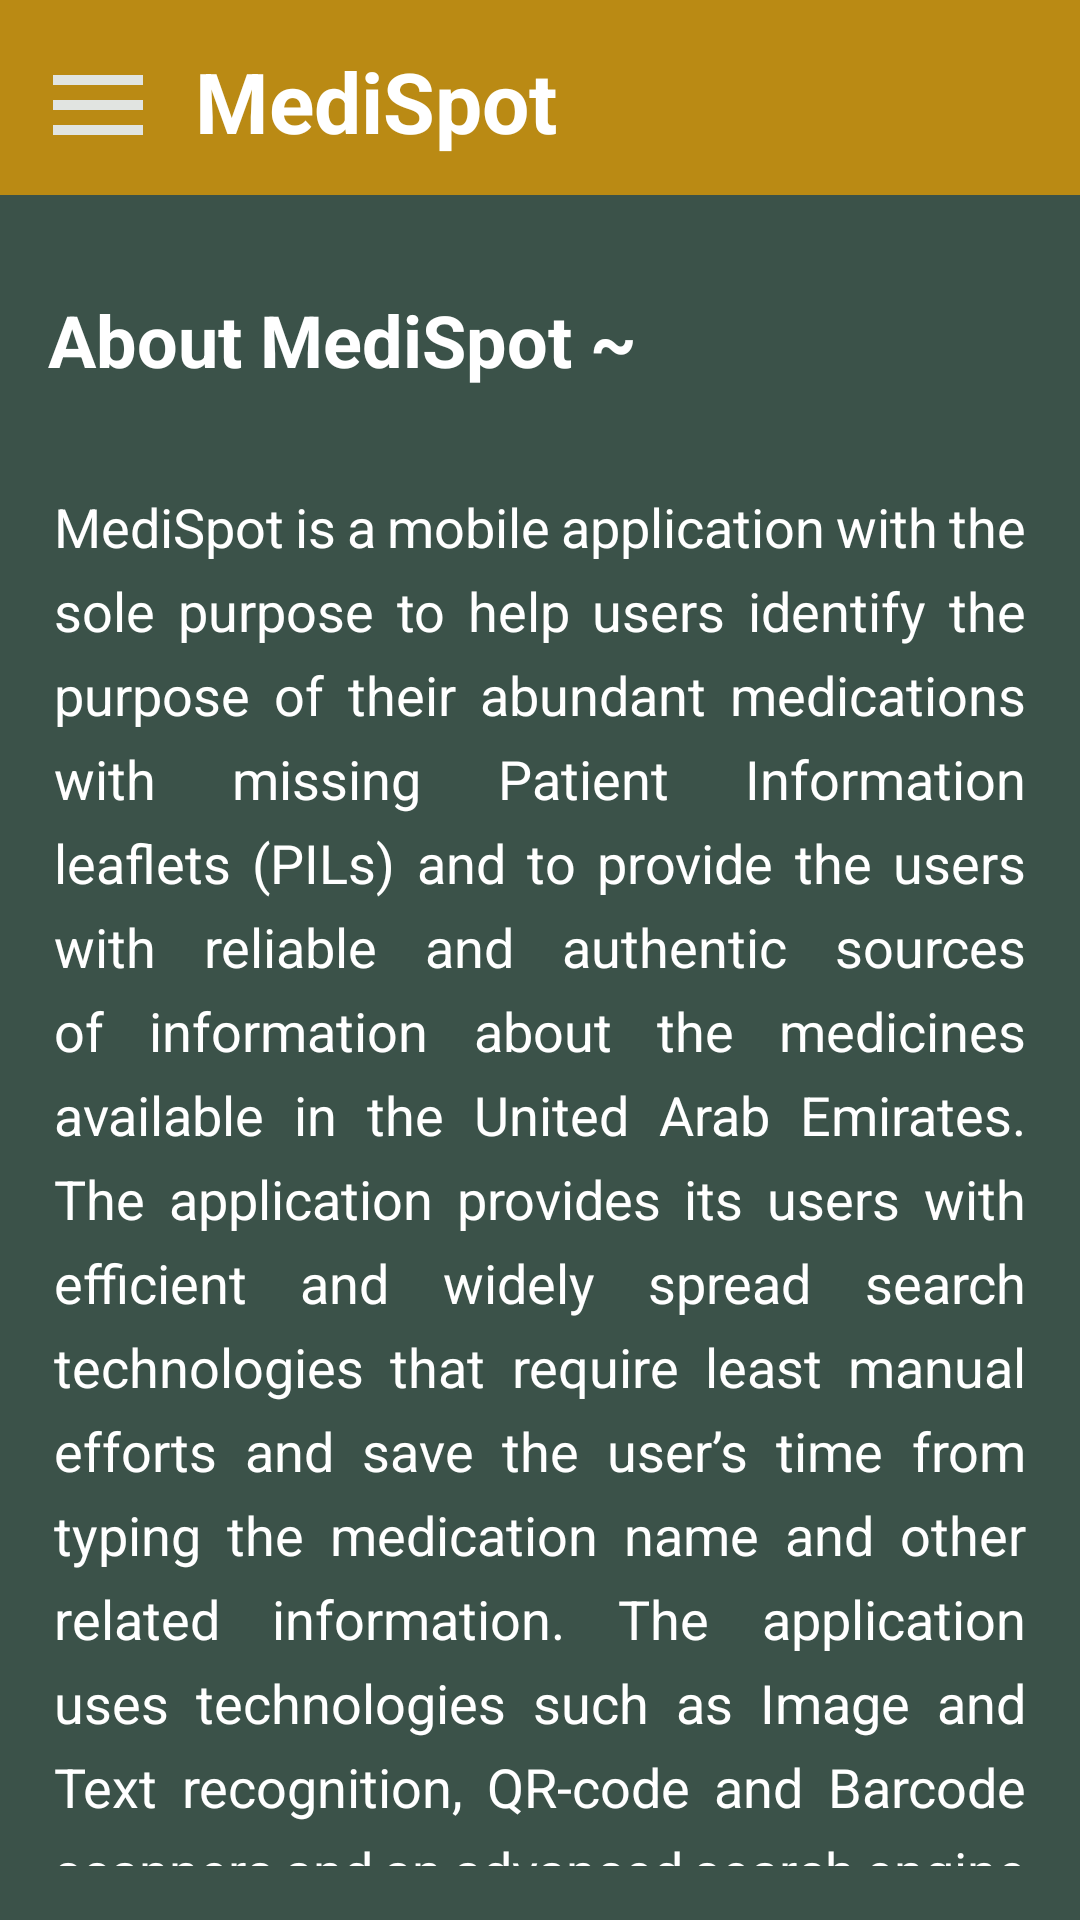

Locate icon controls on the screen. Image size 1080px×1920px, boxes as (x1, y1, x2, y2).
menu: (53, 75, 143, 135)
